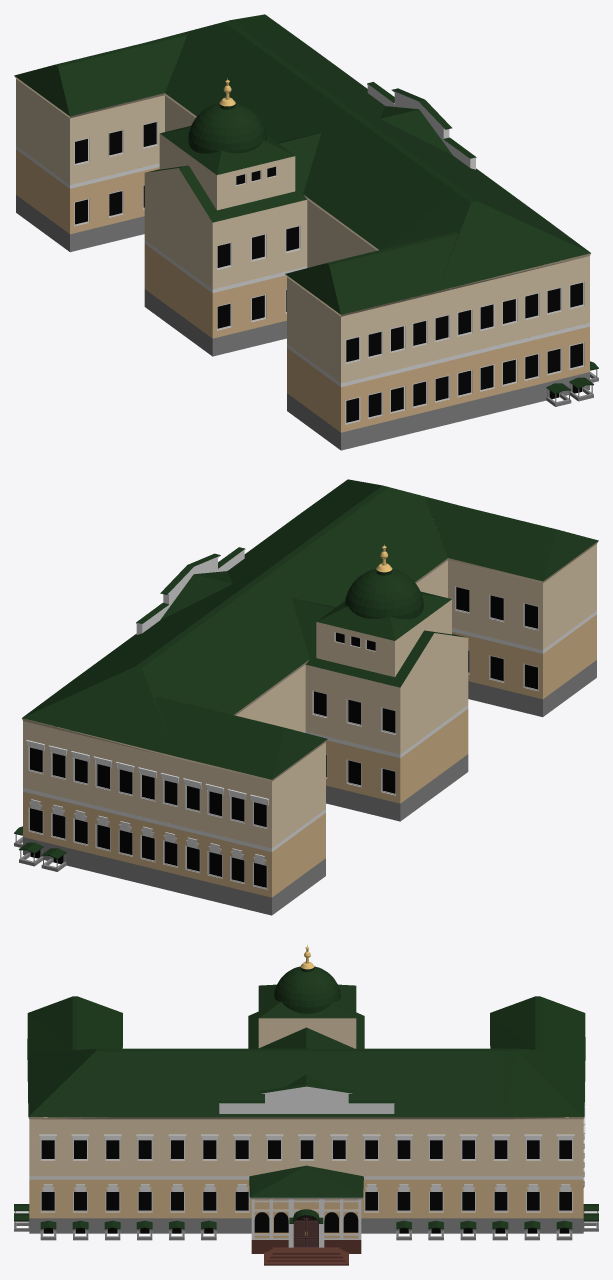
Rendered from archhouse.gltf.
The picture shows the model from 3 angles, top to bottom: view 1: azimuth 30°, elevation 25°; view 2: azimuth 150°, elevation 25°; view 3: azimuth 270°, elevation 25°; orthographic projection. The views are drawn at different scales.
Parts seen in each view (by area): view 1: Main, Top cube, Sphere, Top, Side bottom windows; view 2: Main, Top cube, Sphere, Top, Window topper 2.001, Window Side Toper 1, Side bottom windows; view 3: Main, Top cube, Top, Bottom windows, Sphere, Window topper 2, Window topper 1, Side bottom windows, Door, Column 1.
Boxes of the visible parts, bbox=[...] form: Main: bbox=[14, 14, 590, 450]; Top cube: bbox=[159, 126, 295, 210]; Sphere: bbox=[188, 77, 266, 153]; Top: bbox=[367, 82, 476, 169]; Side bottom windows: bbox=[546, 377, 593, 406]; Main: bbox=[22, 479, 598, 915]; Top cube: bbox=[316, 591, 451, 677]; Sphere: bbox=[345, 543, 423, 619]; Top: bbox=[136, 547, 245, 634]; Window topper 2.001: bbox=[26, 740, 268, 805]; Window Side Toper 1: bbox=[29, 799, 266, 864]; Side bottom windows: bbox=[19, 842, 66, 871]; Main: bbox=[27, 996, 585, 1265]; Top cube: bbox=[258, 984, 356, 1048]; Top: bbox=[219, 1083, 394, 1113]; Bottom windows: bbox=[40, 1220, 572, 1240]; Sphere: bbox=[274, 944, 340, 1013]; Window topper 2: bbox=[39, 1134, 574, 1140]; Window topper 1: bbox=[42, 1184, 571, 1191]; Side bottom windows: bbox=[14, 1204, 598, 1231]; Door: bbox=[293, 1215, 318, 1247]; Column 1: bbox=[288, 1199, 324, 1247].
Size of the model in its own units: 41.55 by 29.4 by 75.55.
